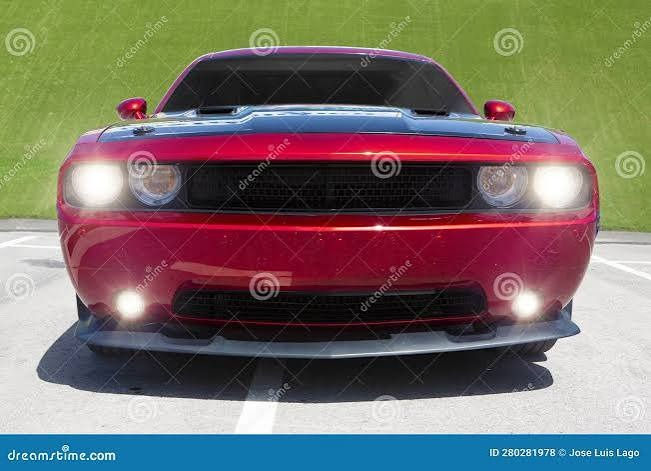car: (45, 60, 596, 363), (59, 62, 597, 364)
